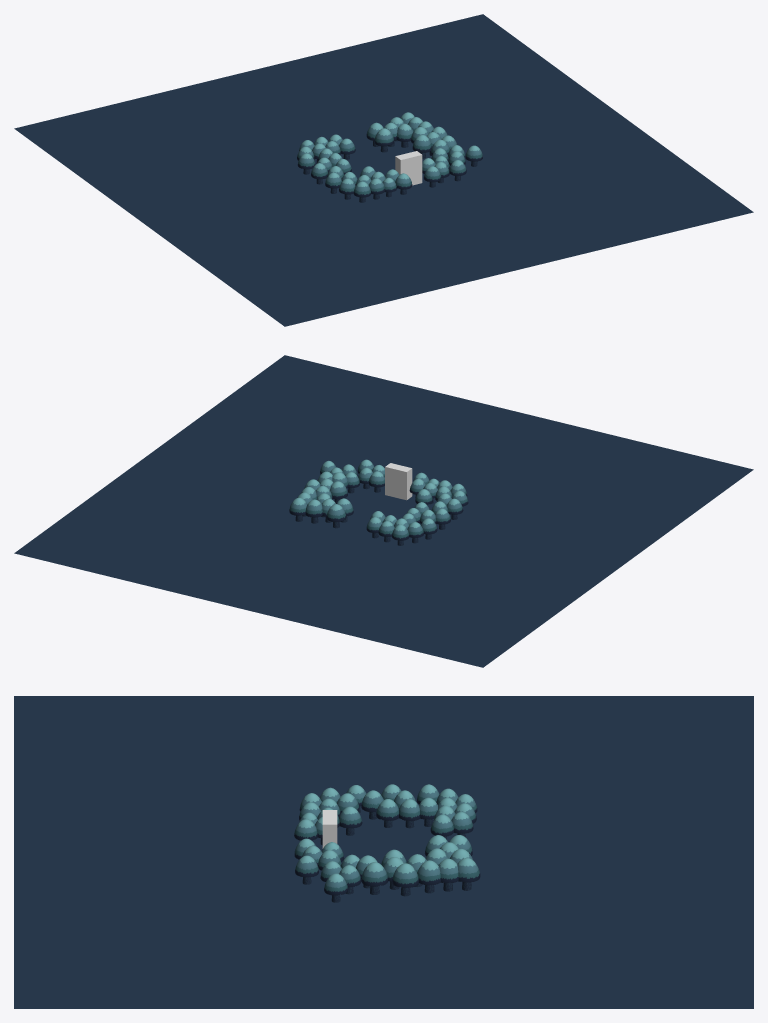
File: Forest Exit.glb
3 renders of one model, top to bottom at view 1: azimuth 30°, elevation 25°; view 2: azimuth 150°, elevation 25°; view 3: azimuth 270°, elevation 25°, orthographic. The views are drawn at different scales.
Visible parts, largest first — view 1: Ground, Forest Exit Placeholder; view 2: Ground, Forest Exit Placeholder; view 3: Ground, Placeholder Tree.816, Placeholder Tree.817, Placeholder Tree.814, Placeholder Tree.813, Forest Exit Placeholder.
Boxes of the visible parts, x1=… form: Ground: x1=14, y1=14, x2=753, y2=326; Forest Exit Placeholder: x1=395, y1=151, x2=422, y2=185; Ground: x1=14, y1=355, x2=753, y2=667; Forest Exit Placeholder: x1=385, y1=463, x2=412, y2=500; Ground: x1=14, y1=696, x2=753, y2=1008; Placeholder Tree.816: x1=392, y1=863, x2=418, y2=896; Placeholder Tree.817: x1=361, y1=862, x2=387, y2=894; Placeholder Tree.814: x1=417, y1=860, x2=440, y2=893; Placeholder Tree.813: x1=457, y1=858, x2=480, y2=890; Forest Exit Placeholder: x1=322, y1=810, x2=337, y2=848.
Bounding box in the file's own units: 100 × 9.49 × 100.
Materials: 3 (2 with a texture image).
